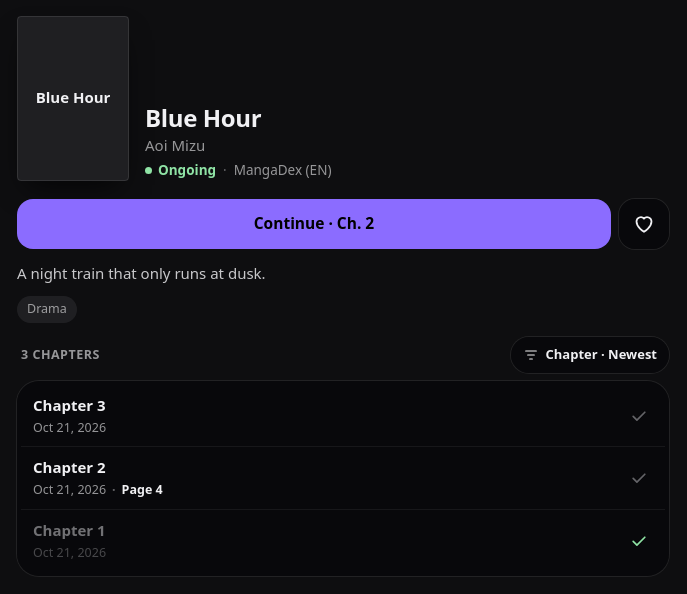
Test case: marks a chapter read
Expected: the text "Chapter 3" is shown, [33,395,106,416]
Step 1. Click the button named "Mark Chapter 3 as read" → (639, 416), box [617,394,661,438]
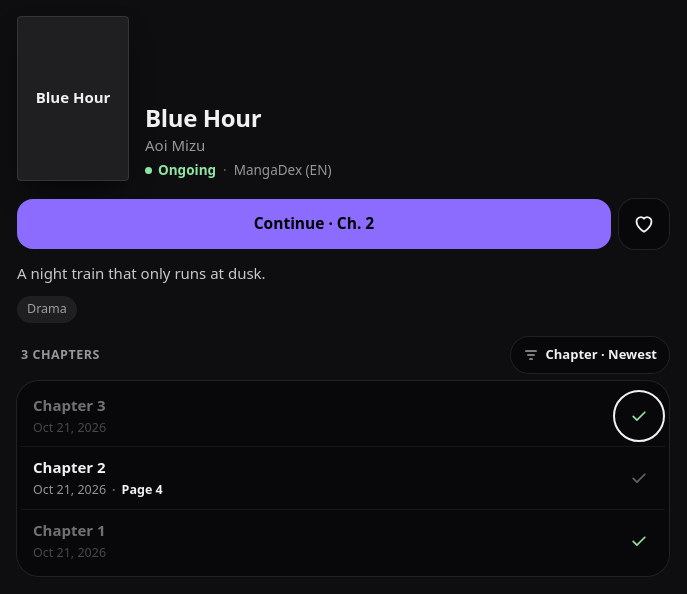
Now the button named "Mark Chapter 3 as unread" is shown, box [617,394,661,438]
